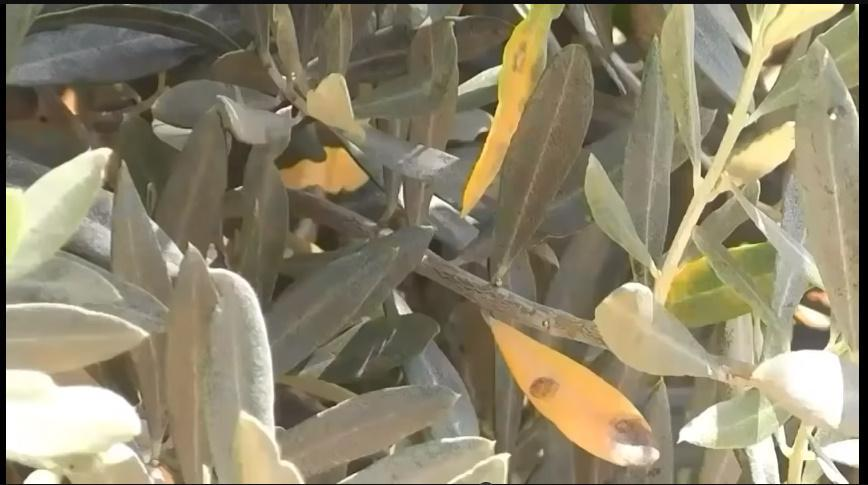OlivePeacockSpot: (488, 319, 660, 470), (461, 18, 549, 216)
